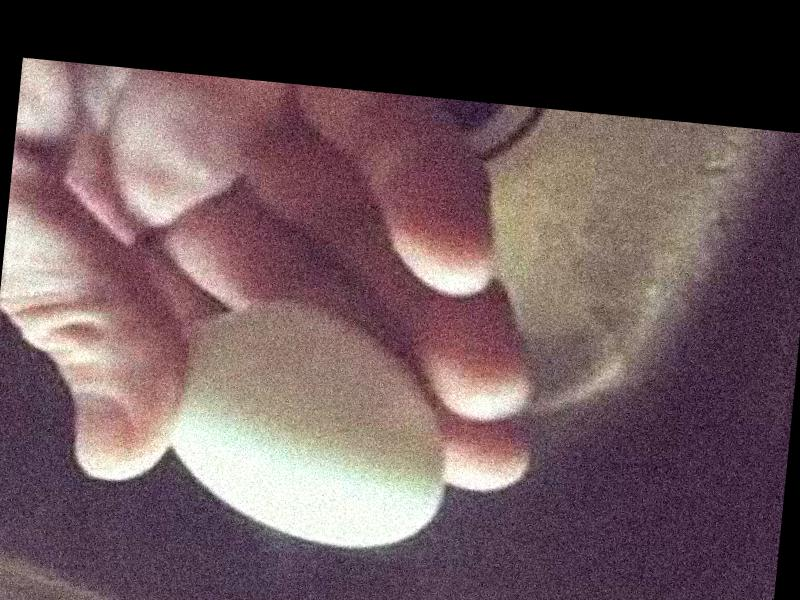Eggs: (160, 294, 460, 555)
